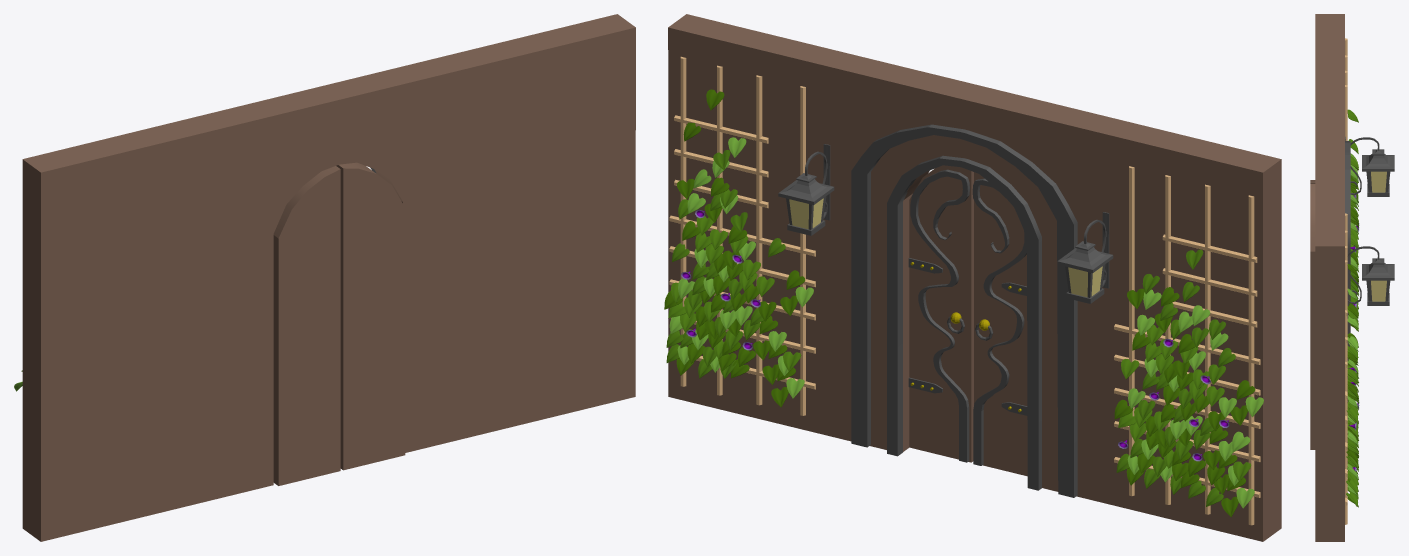
Rendered from Doorway_1.fbx.
3 renders of one model, left to right at view 1: azimuth 30°, elevation 25°; view 2: azimuth 150°, elevation 25°; view 3: azimuth 270°, elevation 25°, orthographic. The views are drawn at different scales.
Parts seen in each view (by area): view 1: Wall_1, Right_Door_1, Left_Door_1; view 2: Wall_1, Left_Door_1, Right_Door_1; view 3: Wall_1, Left_Door_1.
Part boxes in pixels (x1,y1,x2,y2): Wall_1: [14, 14, 635, 541]; Right_Door_1: [273, 166, 340, 485]; Left_Door_1: [336, 162, 405, 470]; Wall_1: [664, 14, 1281, 541]; Left_Door_1: [908, 165, 973, 462]; Right_Door_1: [972, 172, 1027, 476]; Wall_1: [1315, 14, 1394, 541]; Left_Door_1: [1310, 184, 1315, 449].
Bounding box in the file's own units: 12.14 × 7.15 × 1.85.
